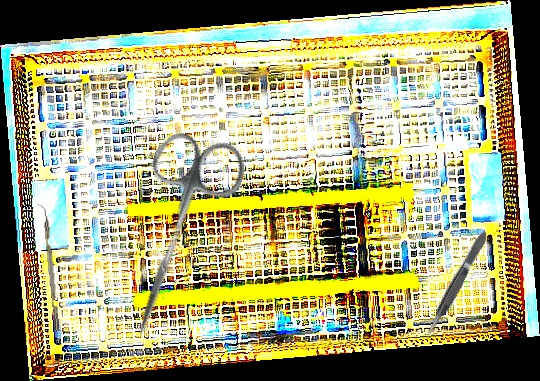Chopper: (37, 202, 60, 333)
Iris Scissors: (99, 123, 252, 352)
Tissue Forceps: (420, 228, 493, 340)
